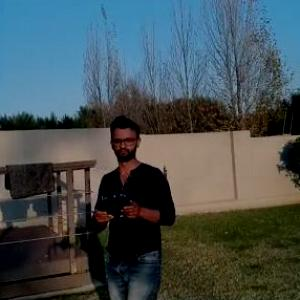follow: (87, 111, 185, 299)
